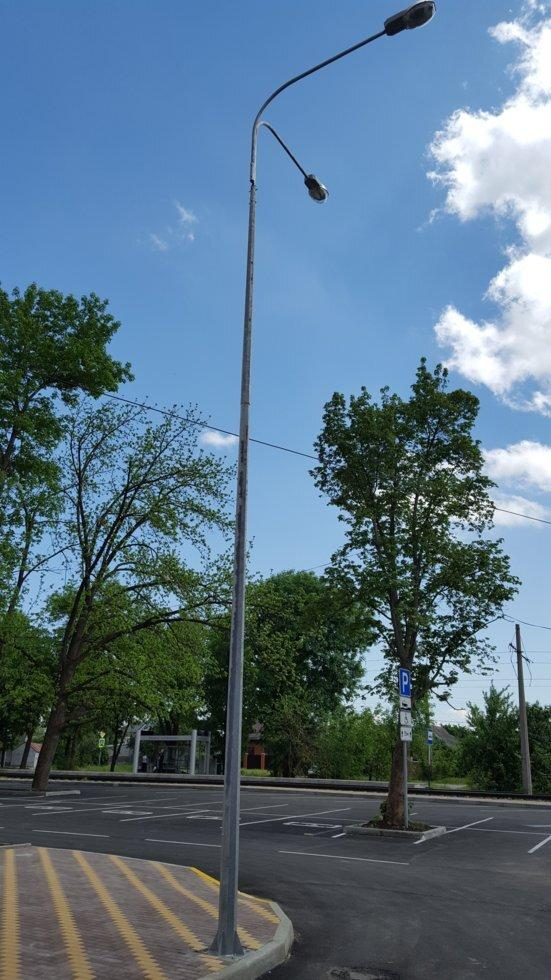Animal: (182, 6, 445, 934)
